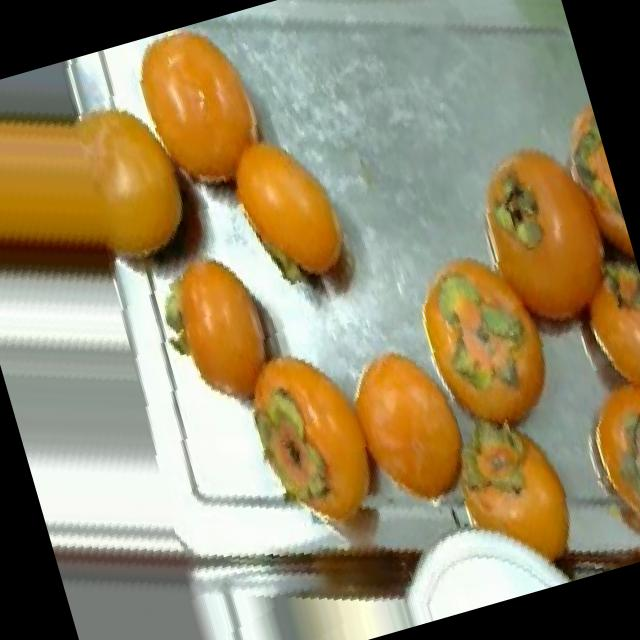Fruit: (188, 103, 381, 327), (114, 9, 296, 220), (428, 390, 606, 604), (145, 222, 308, 435)
